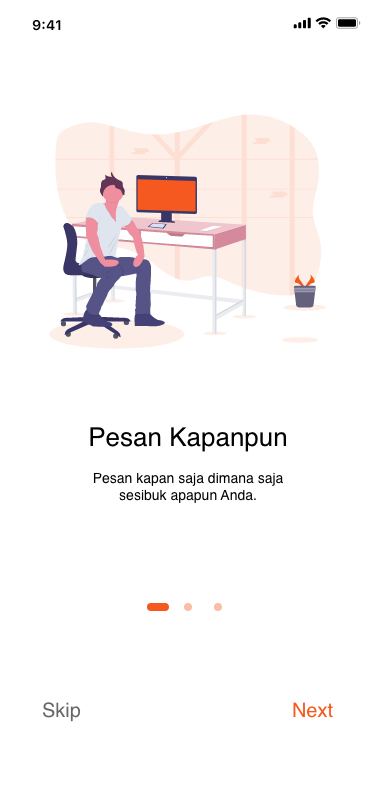Image: (49, 115, 327, 350)
PageIndicator: (147, 602, 223, 612)
Text: (94, 472, 284, 504), (90, 427, 287, 453), (43, 701, 82, 722), (293, 702, 334, 718)
UpperTaskBar: (33, 17, 361, 32)
